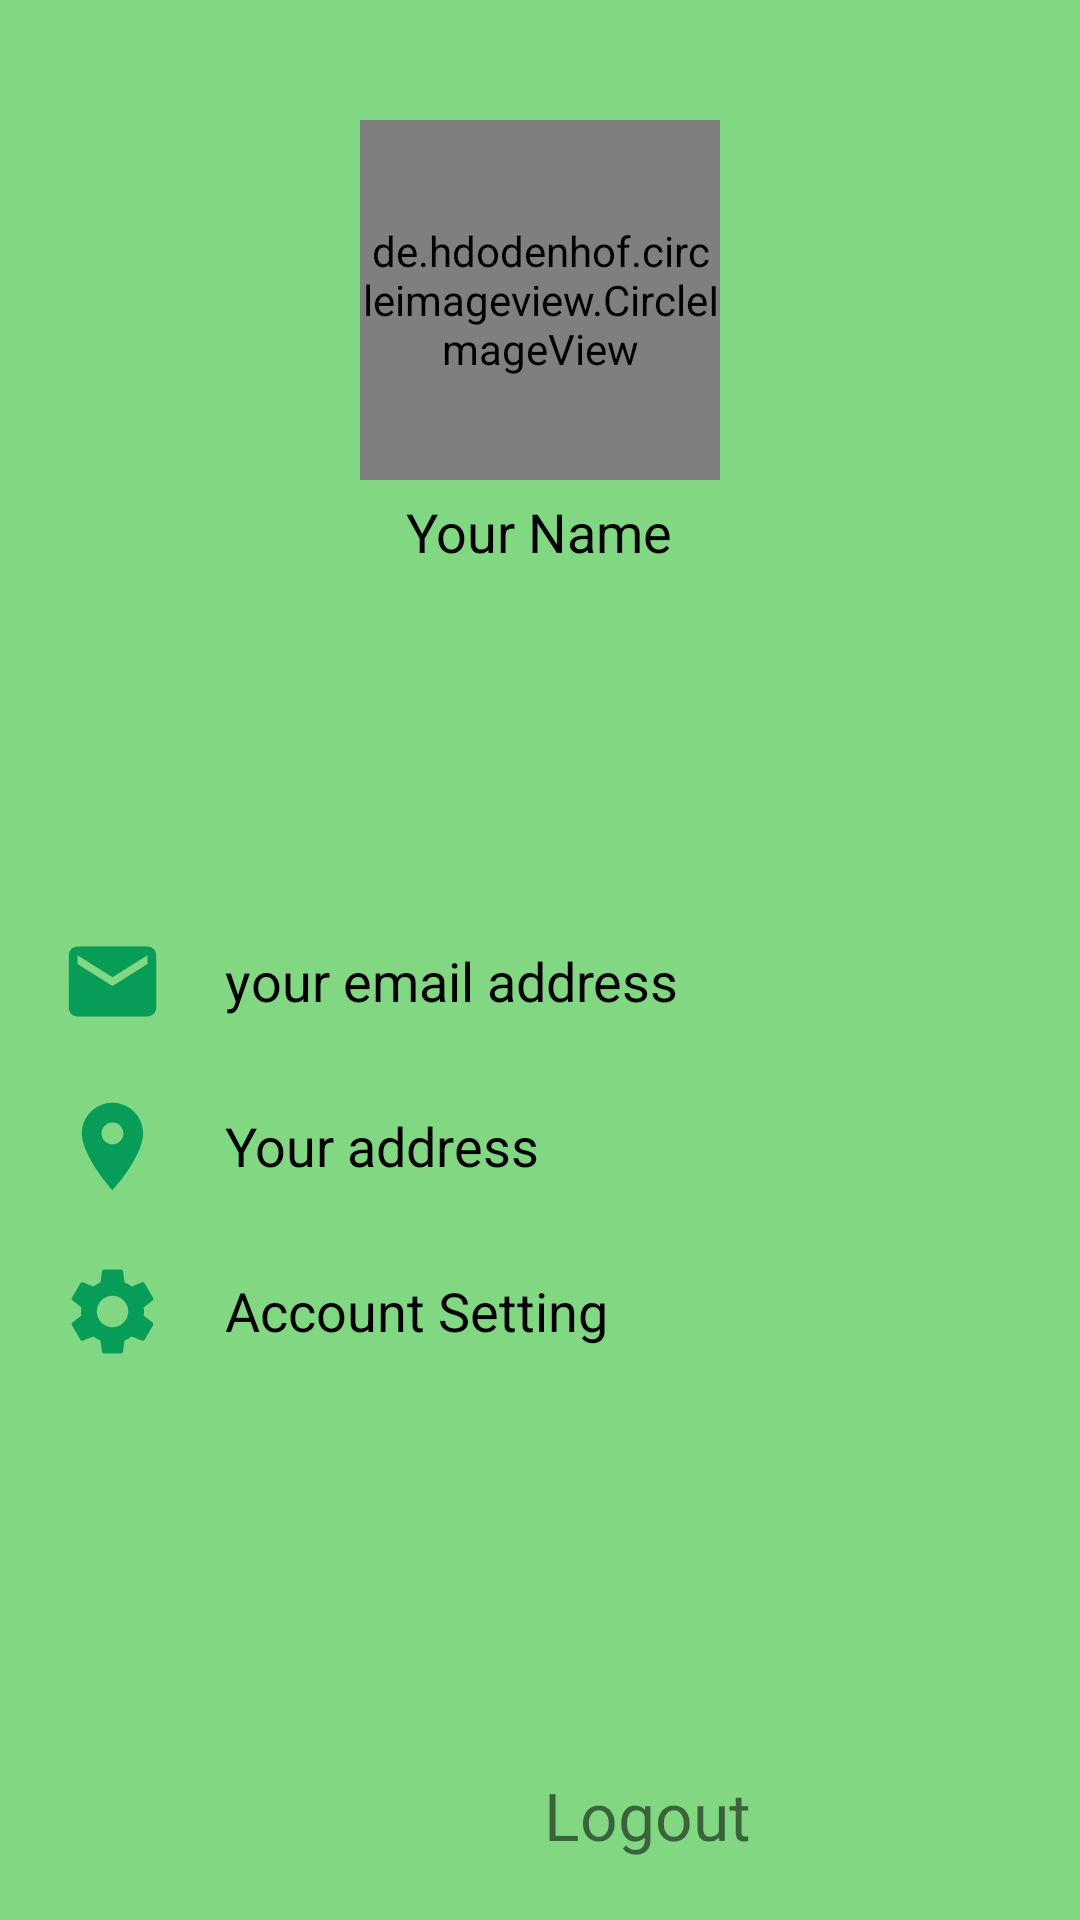

Point at icon controls on the screen. Image size 1080 x 1920, points as [x,y].
location: [112,1146]
